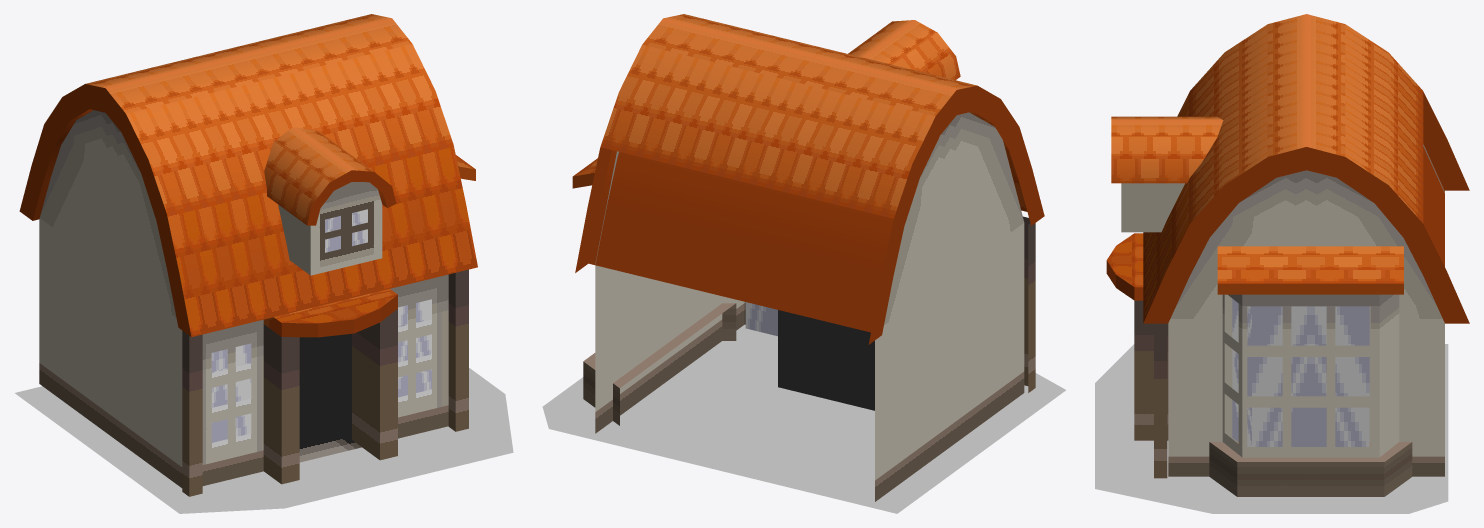
Rendered from rr_hoiku_01.dae.
The picture shows the model from 3 angles, left to right: view 1: azimuth 30°, elevation 25°; view 2: azimuth 150°, elevation 25°; view 3: azimuth 270°, elevation 25°; orthographic projection. The views are drawn at different scales.
Parts seen in each view (by area): view 1: rr_hoiku_01; view 2: rr_hoiku_01; view 3: rr_hoiku_01.
Boxes of the visible parts, x1,y1,x2,y2 form: rr_hoiku_01: (15, 14, 513, 513); rr_hoiku_01: (542, 14, 1065, 513); rr_hoiku_01: (1095, 14, 1469, 513).
Size of the model in its own units: 82.08 by 75.93 by 76.41.
